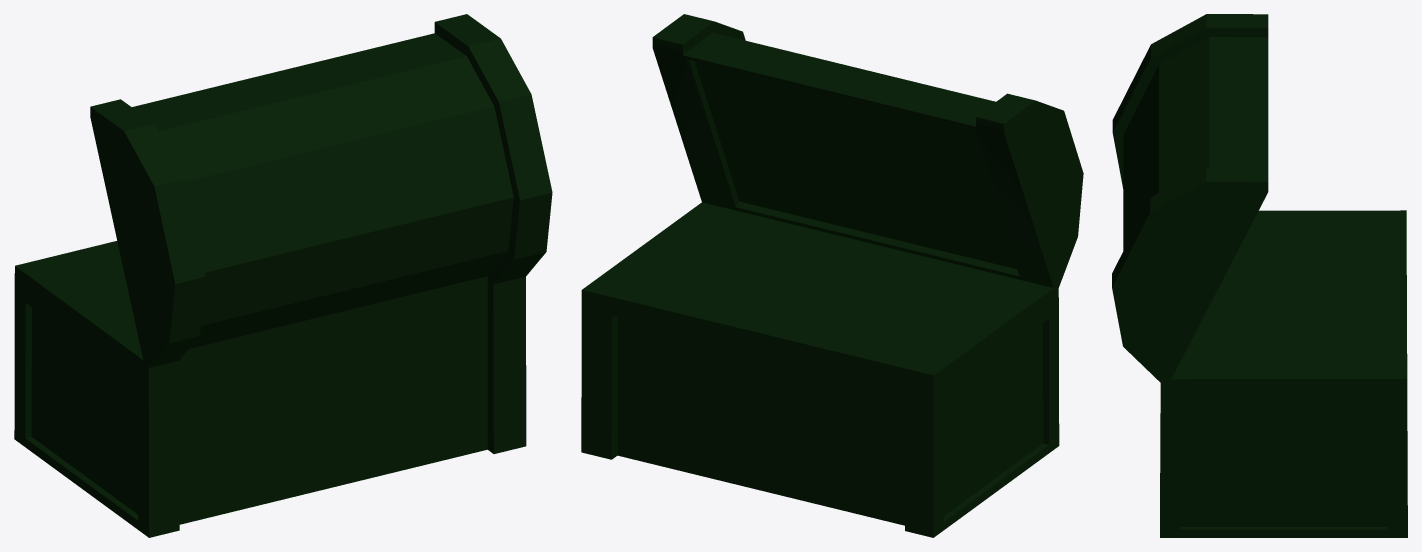
Rendered from Chest.fbx.
3 views of the same model, side by side, from view 1: azimuth 30°, elevation 25°; view 2: azimuth 150°, elevation 25°; view 3: azimuth 270°, elevation 25° (orthographic). The views are drawn at different scales.
Parts seen in each view (by area): view 1: Cube; view 2: Cube; view 3: Cube.
Boxes of the visible parts, x1=… form: Cube: x1=14, y1=14, x2=552, y2=537; Cube: x1=581, y1=14, x2=1083, y2=537; Cube: x1=1112, y1=14, x2=1407, y2=537.
Size of the model in its own units: 106 by 104 by 78.64.
